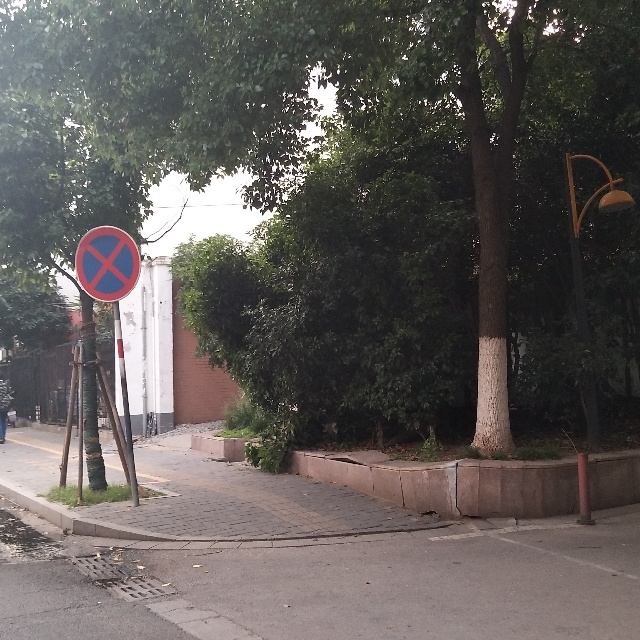stop: (79, 236, 142, 297)
